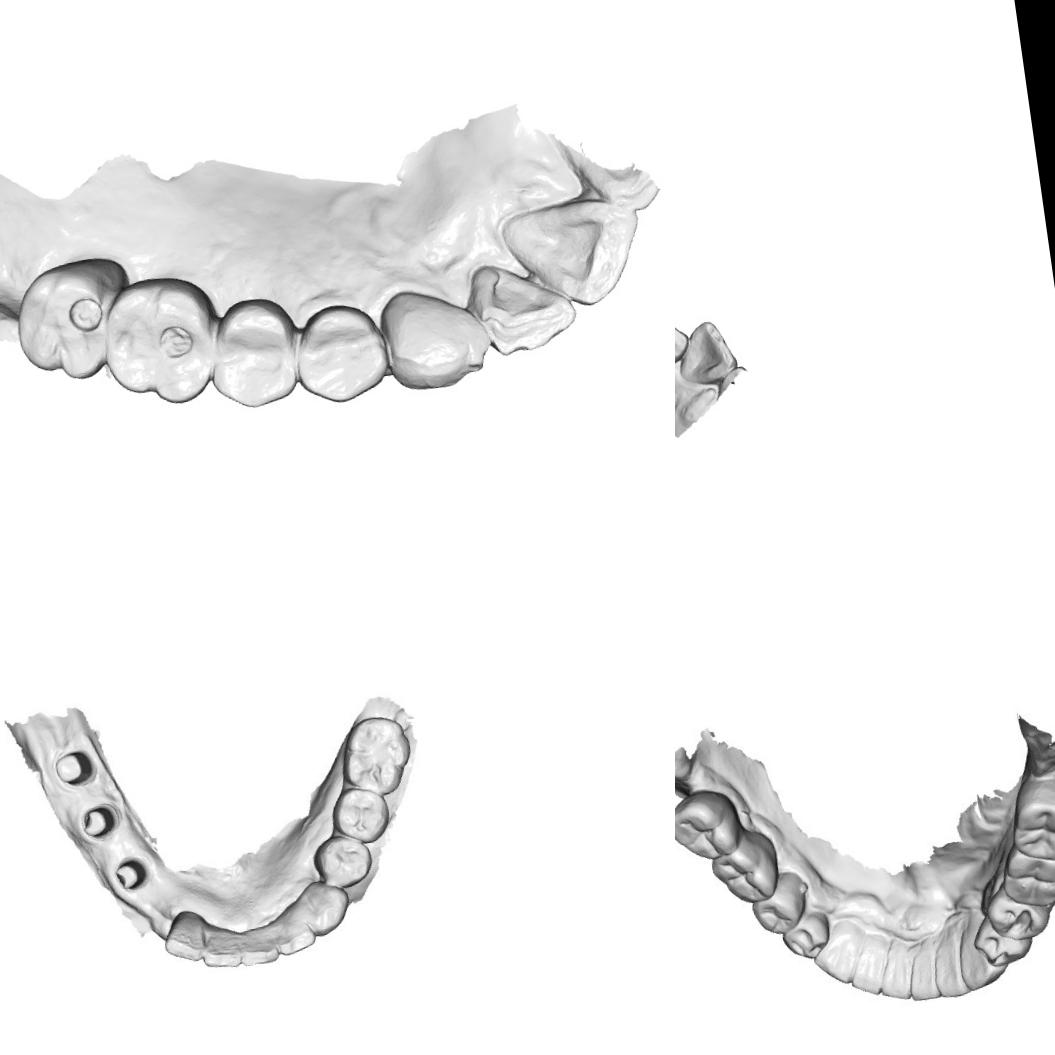abutment: (49, 745, 98, 792), (107, 849, 152, 894), (73, 802, 118, 843)
canine: (376, 276, 494, 397), (805, 914, 873, 990), (954, 916, 1013, 992), (306, 886, 352, 938)
incisor: (495, 190, 652, 318), (462, 252, 582, 362), (675, 316, 741, 389), (843, 934, 892, 1001), (158, 907, 207, 967), (927, 934, 970, 1001), (872, 938, 914, 1004), (196, 925, 244, 976), (902, 946, 942, 1004), (274, 911, 321, 956), (236, 927, 282, 968), (675, 311, 693, 371)
molar: (94, 267, 228, 415), (6, 250, 142, 389), (333, 710, 415, 799), (705, 826, 784, 909), (675, 783, 745, 866), (1002, 769, 1055, 867), (996, 838, 1055, 911)
premolar: (200, 290, 303, 414), (288, 296, 394, 409), (745, 866, 812, 938), (982, 881, 1054, 944), (968, 911, 1040, 970), (328, 783, 392, 847), (311, 832, 374, 891), (777, 908, 834, 963)
